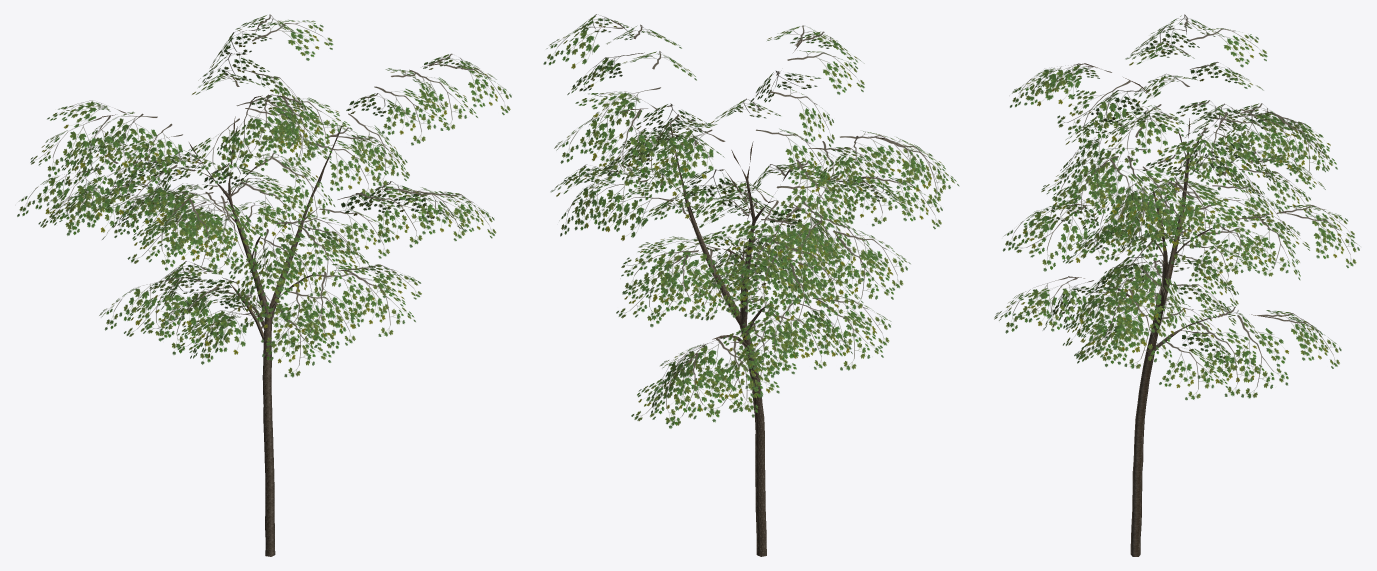
Rendered from maple1.glb.
The picture shows the model from 3 angles, left to right: view 1: azimuth 30°, elevation 25°; view 2: azimuth 150°, elevation 25°; view 3: azimuth 270°, elevation 25°; orthographic projection. The views are drawn at different scales.
Parts seen in each view (by area): view 1: foliage, structure; view 2: foliage, structure; view 3: foliage, structure.
Part boxes in pixels (x1,y1,x2,y2): foliage: (17, 14, 511, 377); structure: (90, 24, 438, 556); foliage: (543, 14, 959, 428); structure: (613, 23, 884, 556); foliage: (994, 14, 1359, 400); structure: (1068, 25, 1286, 556).
Size of the model in its own units: 6.97 by 7.52 by 5.19.
Materials: 2 (2 with a texture image).
